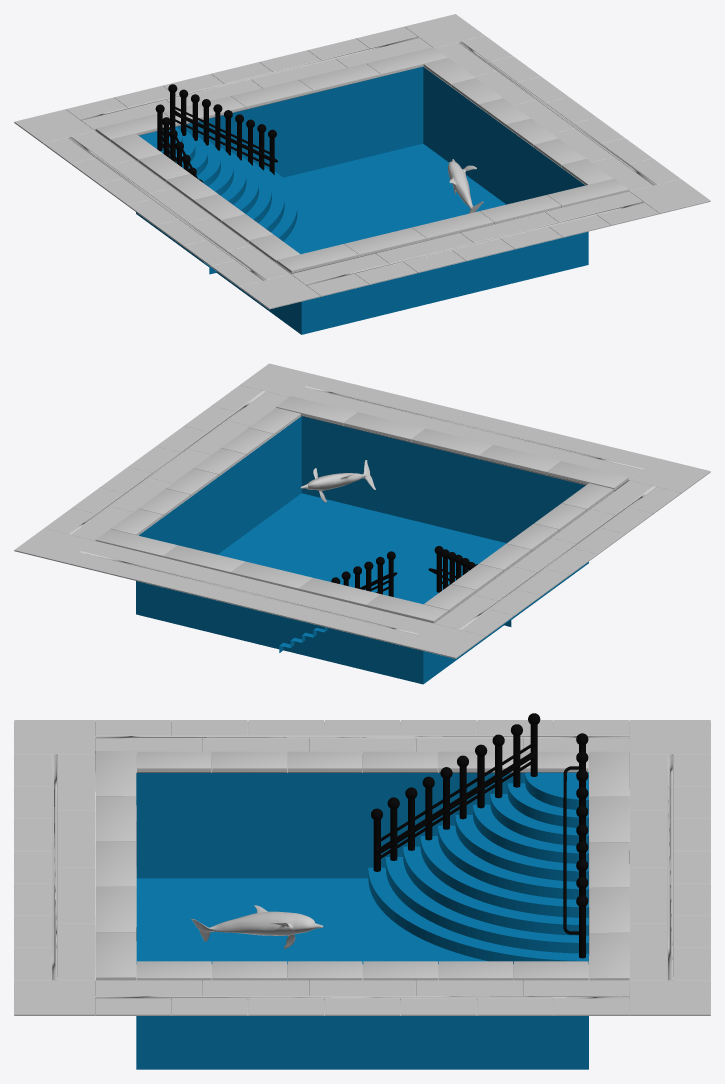
File: dooooolph.obj
3 views of the same model, one above another, from view 1: azimuth 30°, elevation 25°; view 2: azimuth 150°, elevation 25°; view 3: azimuth 270°, elevation 25° (orthographic). The views are drawn at different scales.
Visible parts, largest first — view 1: Box362_Untitled.003, Plane036_Untitled.004, Plane039_Untitled.006, Circle063_Untitled.002, Object001_Untitled.001, Common_dolphin_Untitled; view 2: Box362_Untitled.003, Plane036_Untitled.004, Plane039_Untitled.006, Object001_Untitled.001, Common_dolphin_Untitled, Circle063_Untitled.002; view 3: Plane036_Untitled.004, Box362_Untitled.003, Plane039_Untitled.006, Circle063_Untitled.002, Object001_Untitled.001, Common_dolphin_Untitled.
Boxes of the visible parts, bbox=[...] form: Box362_Untitled.003: bbox=[136, 66, 588, 334]; Plane036_Untitled.004: bbox=[14, 14, 710, 309]; Plane039_Untitled.006: bbox=[95, 47, 629, 273]; Circle063_Untitled.002: bbox=[139, 127, 297, 274]; Object001_Untitled.001: bbox=[155, 84, 277, 182]; Common_dolphin_Untitled: bbox=[447, 159, 483, 213]; Box362_Untitled.003: bbox=[136, 416, 588, 684]; Plane036_Untitled.004: bbox=[14, 363, 710, 658]; Plane039_Untitled.006: bbox=[95, 396, 628, 623]; Object001_Untitled.001: bbox=[331, 546, 477, 596]; Common_dolphin_Untitled: bbox=[300, 460, 375, 502]; Circle063_Untitled.002: bbox=[279, 587, 511, 652]; Plane036_Untitled.004: bbox=[14, 720, 710, 1015]; Box362_Untitled.003: bbox=[136, 773, 588, 1069]; Plane039_Untitled.006: bbox=[95, 750, 629, 981]; Circle063_Untitled.002: bbox=[368, 772, 588, 964]; Object001_Untitled.001: bbox=[371, 713, 588, 958]; Common_dolphin_Untitled: bbox=[191, 905, 323, 948].
Bounding box in the file's own units: 12.03 × 3.18 × 12.
